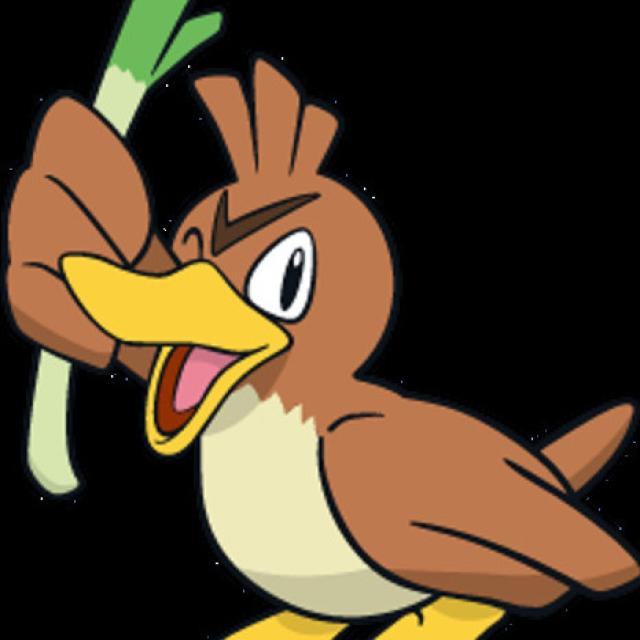Farfetchd: (44, 72, 527, 640)
